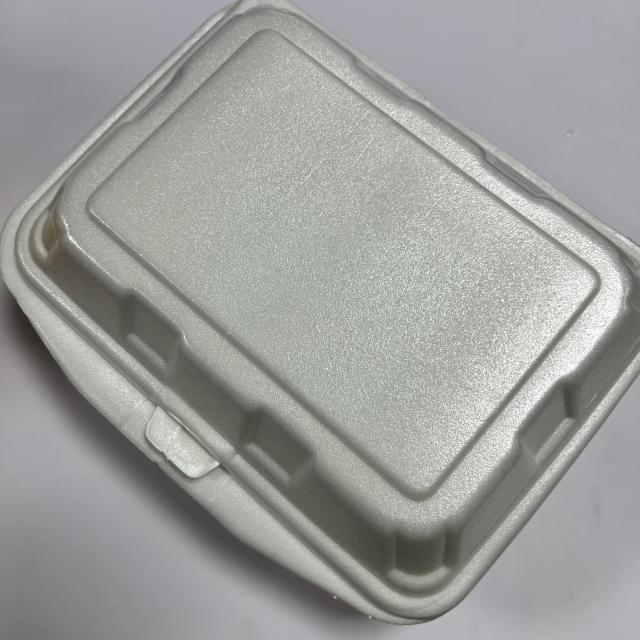styrofoam: (1, 0, 638, 628)
